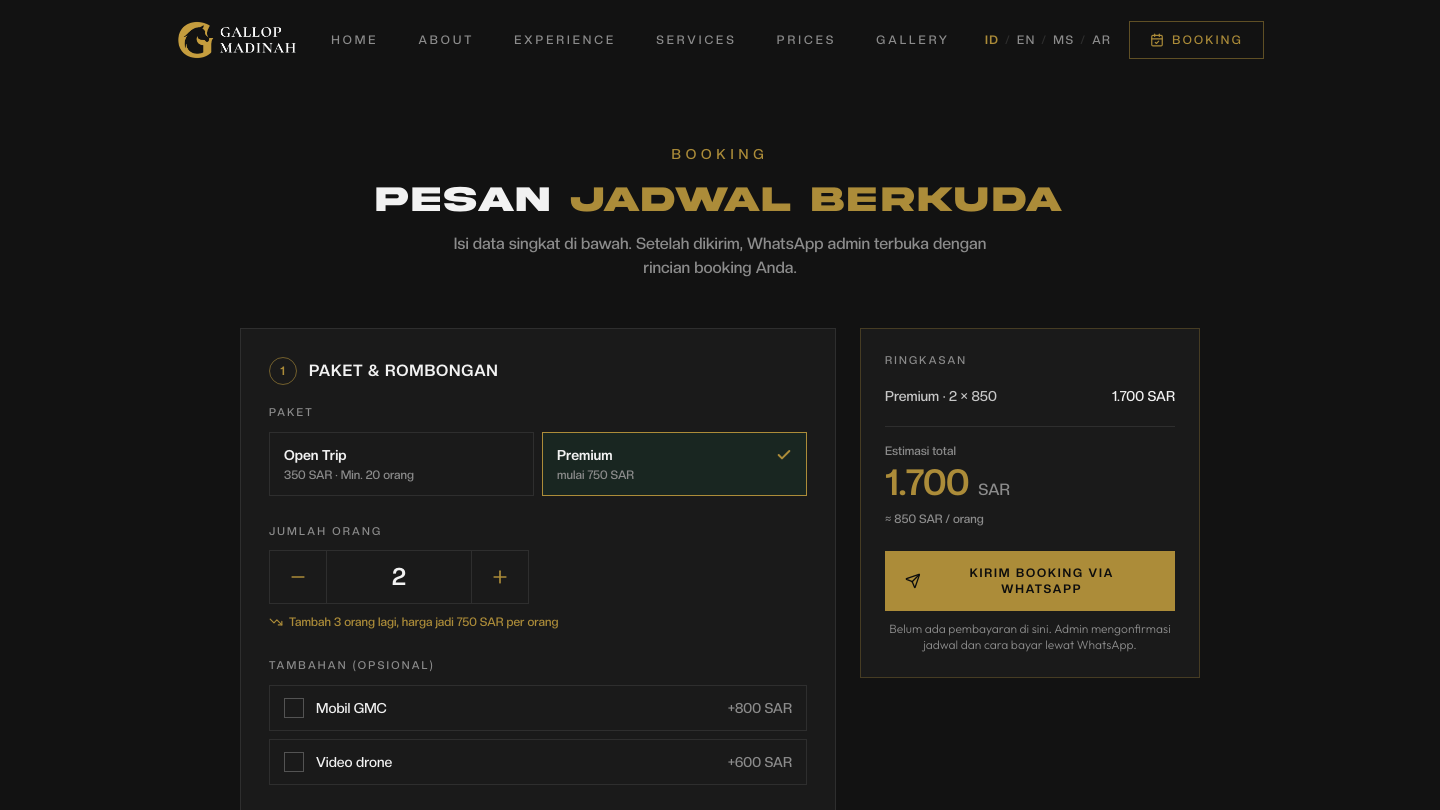
Test case: BookingPage › does not send until date, time and name are filled in
The width and height of the screenshot is (1440, 810).
Click the button "Kirim booking via WhatsApp" at (1030, 580), box x1=885 y1=550 x2=1175 y2=610
(page scrolled)
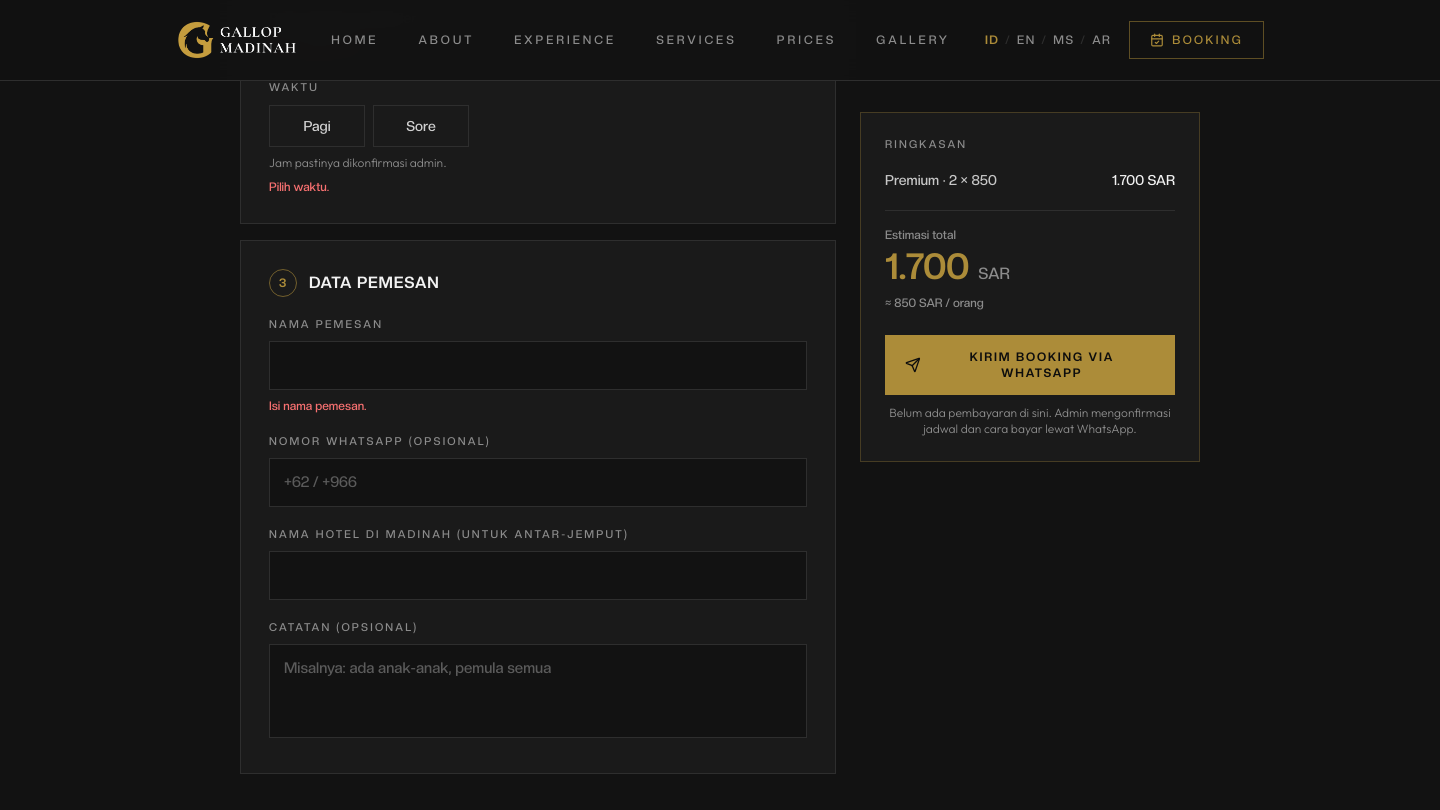
Expected: the text "Pilih tanggal dulu." is shown, x1=269 y1=37 x2=361 y2=51
Now the text "Pilih waktu." is shown, box x1=269 y1=180 x2=329 y2=194
Now the text "Isi nama pemesan." is shown, box x1=269 y1=399 x2=367 y2=413
